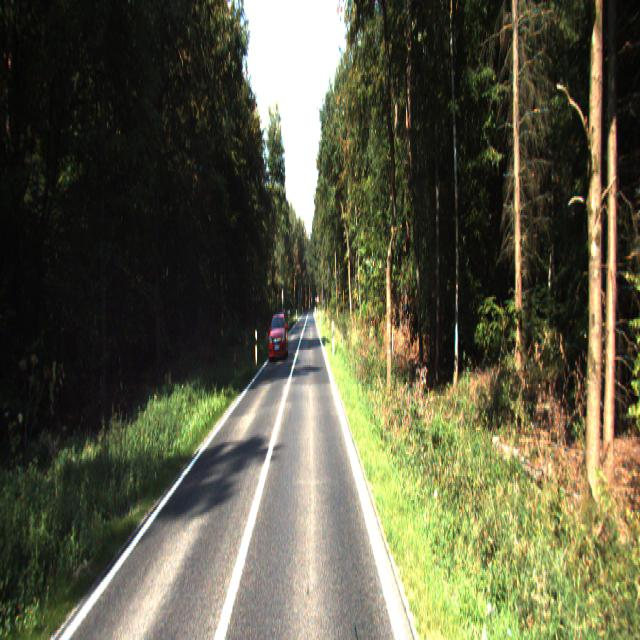Car: (268, 312, 289, 362)
